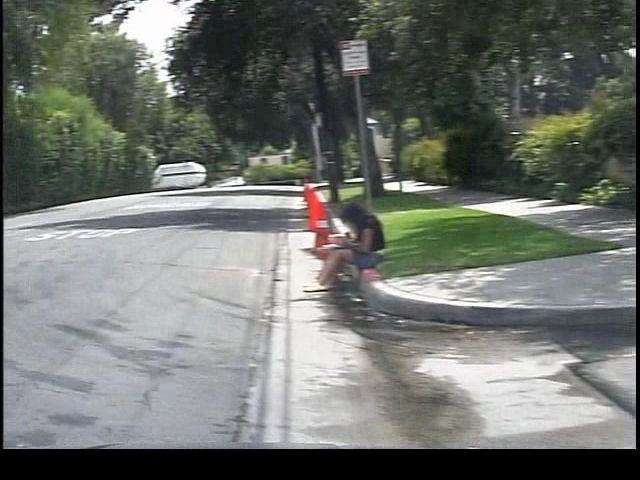person: (286, 198, 377, 295)
